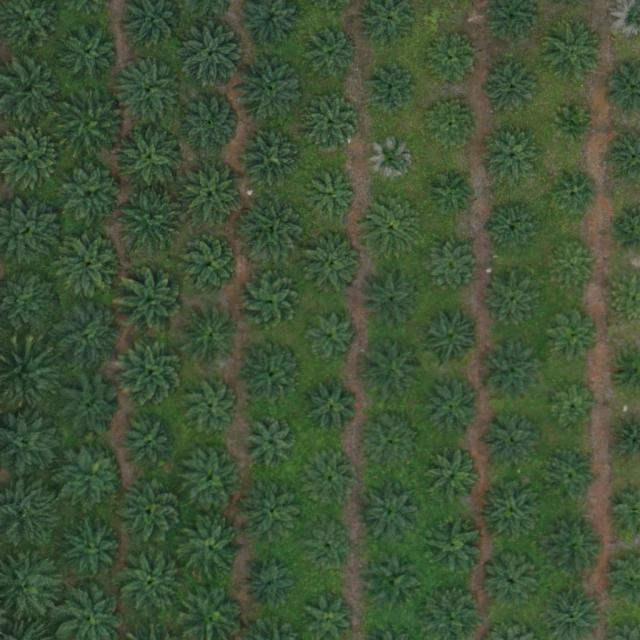Dead: (369, 139, 416, 186)
Healthy: (57, 88, 128, 159), (114, 57, 184, 128), (115, 124, 185, 195), (120, 186, 190, 257), (237, 196, 307, 267), (116, 268, 187, 338), (117, 337, 188, 407), (179, 20, 249, 90), (237, 55, 307, 125), (117, 547, 187, 617), (180, 92, 243, 155), (240, 128, 303, 191), (364, 196, 427, 259), (480, 479, 543, 542), (419, 236, 482, 299), (419, 305, 482, 368), (360, 268, 423, 331), (180, 448, 243, 511), (180, 521, 243, 584), (120, 481, 183, 544), (57, 234, 120, 297), (55, 304, 118, 367), (362, 551, 425, 614), (60, 23, 123, 85), (62, 163, 124, 226), (182, 165, 244, 228), (545, 22, 607, 85), (543, 517, 605, 580), (479, 342, 541, 405), (362, 340, 425, 402), (359, 482, 422, 544), (303, 232, 365, 295), (242, 344, 305, 406), (244, 481, 306, 544), (180, 234, 242, 297), (180, 305, 242, 368), (61, 377, 123, 440), (62, 446, 124, 509), (60, 517, 122, 580), (422, 515, 484, 577), (240, 271, 302, 333), (486, 556, 541, 612), (303, 30, 358, 85), (305, 99, 360, 154), (426, 35, 481, 90), (424, 99, 479, 154), (485, 63, 540, 118), (488, 203, 543, 258), (546, 450, 601, 505), (485, 274, 540, 329), (484, 415, 539, 470), (364, 420, 419, 475), (305, 313, 360, 368), (185, 380, 240, 435), (123, 416, 178, 471), (486, 132, 540, 187), (425, 383, 479, 438), (427, 452, 481, 507), (247, 415, 301, 470), (311, 386, 358, 434), (309, 455, 356, 503), (309, 172, 356, 219), (368, 67, 415, 114), (548, 242, 595, 289), (304, 527, 351, 574), (249, 562, 296, 609)
Small: (425, 166, 480, 221), (545, 308, 599, 363), (553, 172, 600, 219), (552, 386, 599, 433), (554, 107, 594, 146)
